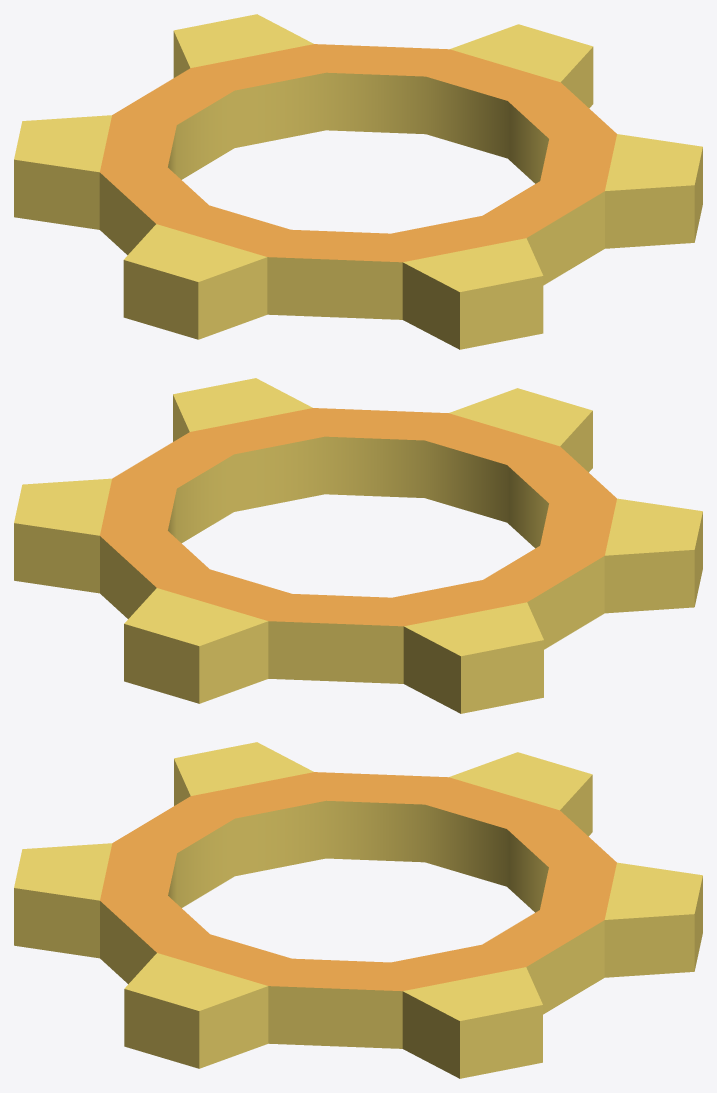
File: Scrap_Gear.fbx
3 renders of one model, top to bottom at view 1: azimuth 30°, elevation 25°; view 2: azimuth 150°, elevation 25°; view 3: azimuth 270°, elevation 25°, orthographic.
Parts seen in each view (by area): view 1: Gear; view 2: Gear; view 3: Gear.
Part boxes in pixels (x1,y1,x2,y2): Gear: (14,14,702,349); Gear: (14,378,702,713); Gear: (14,742,702,1078).
Size of the model in its own units: 2229 by 215 by 2326.
